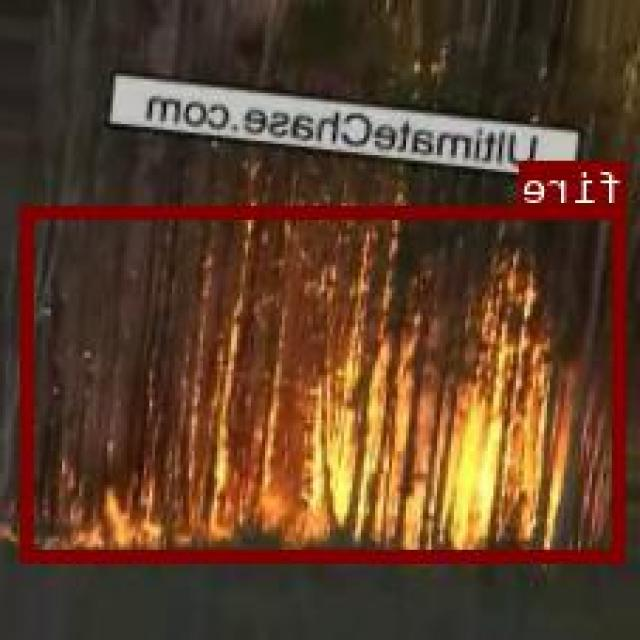fire: (24, 206, 627, 558)
